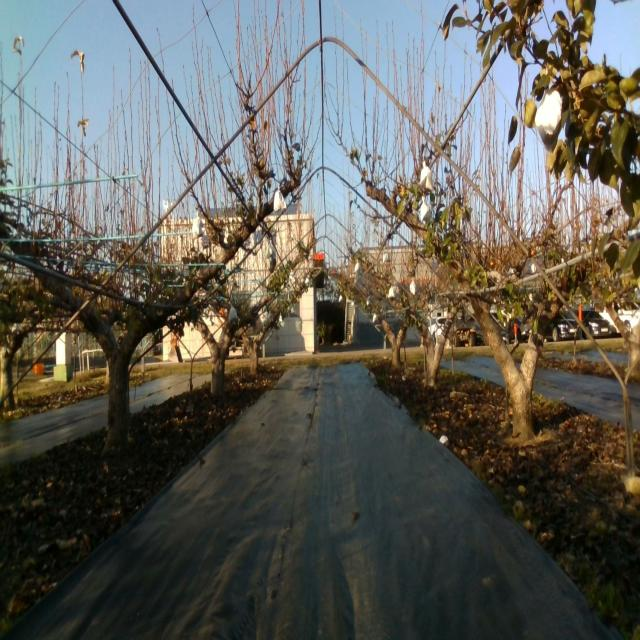pearbags: (533, 87, 563, 145), (419, 163, 435, 193), (191, 211, 207, 241), (272, 186, 286, 212), (421, 195, 432, 224)
